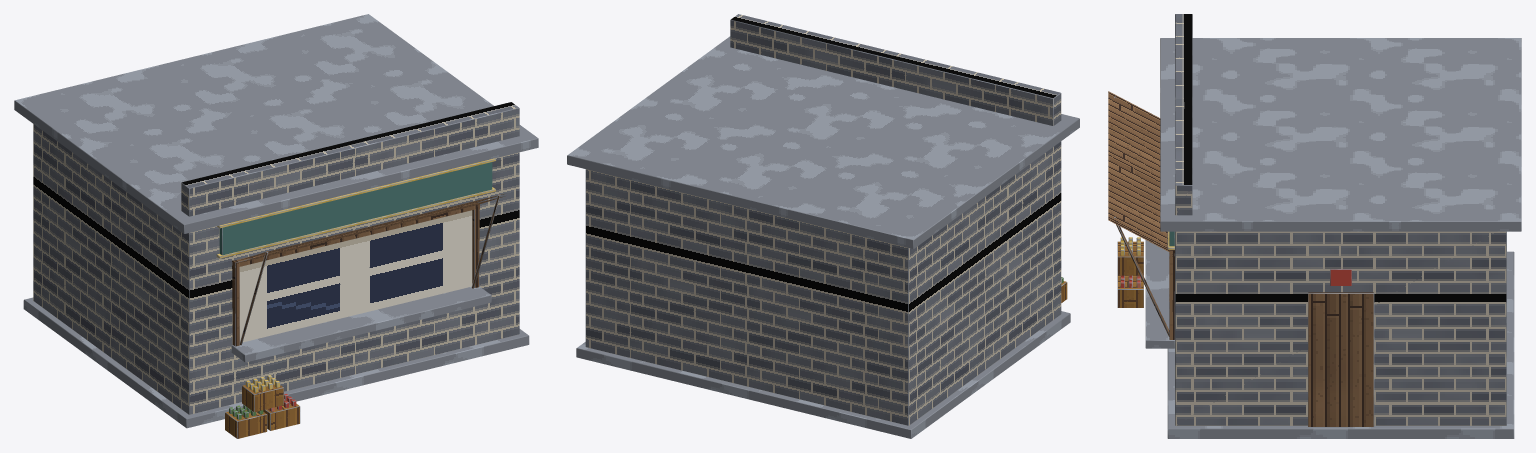
File: cn_shop_1.glb
3 renders of one model, left to right at view 1: azimuth 30°, elevation 25°; view 2: azimuth 150°, elevation 25°; view 3: azimuth 270°, elevation 25°, orthographic. The views are drawn at different scales.
Visible parts, largest first — view 1: cn_shop_2; view 2: cn_shop_2; view 3: cn_shop_2.
Boxes of the visible parts, bbox=[...] form: cn_shop_2: bbox=[14, 14, 538, 438]; cn_shop_2: bbox=[567, 14, 1079, 438]; cn_shop_2: bbox=[1108, 14, 1521, 438].
Bounding box in the file's own units: 5.9 × 3.75 × 5.61.
11 materials, 11 textured.
